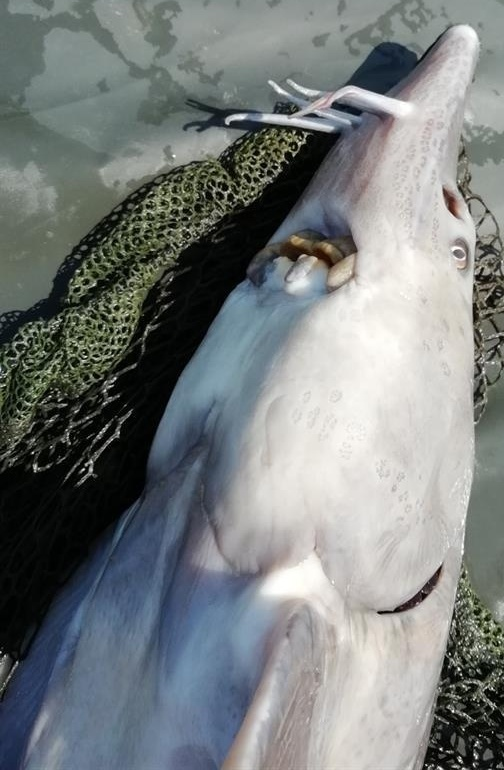Acipenseridae: (1, 20, 484, 770)
